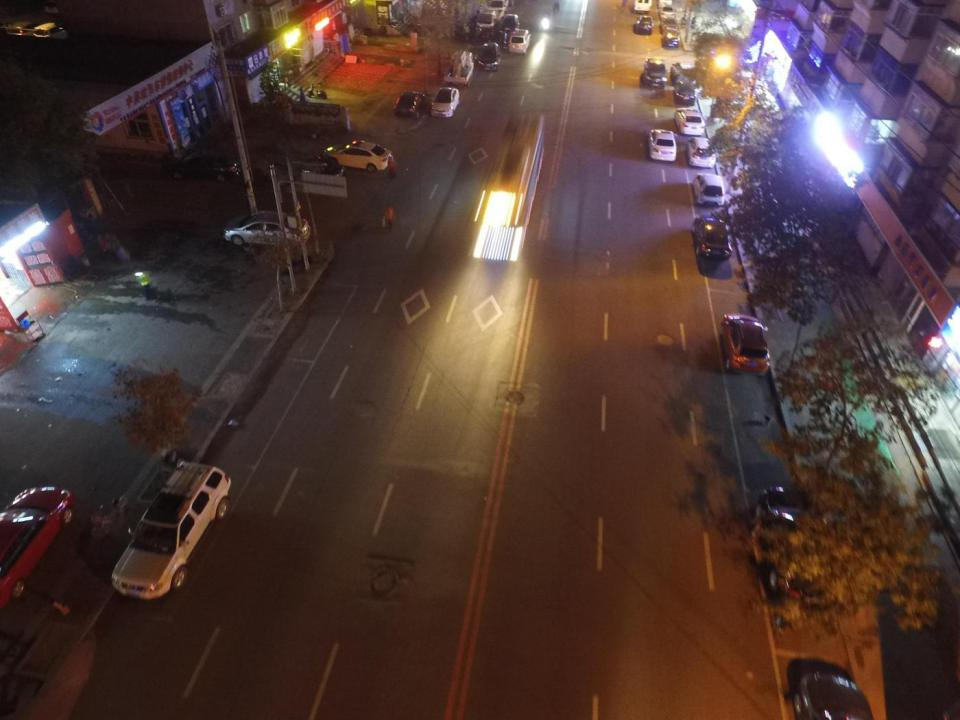car: (110, 461, 231, 602), (0, 485, 73, 614), (756, 487, 820, 600), (786, 659, 878, 720), (720, 314, 769, 376), (222, 213, 310, 245), (264, 156, 342, 186), (169, 151, 240, 182), (326, 141, 393, 169), (692, 213, 730, 259), (693, 172, 726, 207), (431, 88, 462, 119), (676, 106, 704, 137), (685, 138, 715, 166), (648, 131, 676, 160), (396, 92, 424, 120), (474, 42, 500, 70), (642, 58, 668, 86), (673, 61, 697, 86), (675, 80, 693, 105), (634, 15, 654, 34), (662, 29, 681, 46), (658, 6, 677, 21), (661, 17, 678, 32), (657, 1, 675, 7)
truck: (444, 49, 475, 84), (475, 11, 504, 32), (487, 0, 508, 12)
van: (510, 29, 528, 53), (502, 14, 520, 30), (633, 0, 650, 12)
